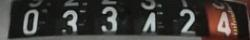digits: (177, 0, 200, 40), (138, 0, 160, 36), (99, 5, 119, 35), (22, 8, 39, 37), (62, 8, 79, 36), (215, 8, 231, 36)
